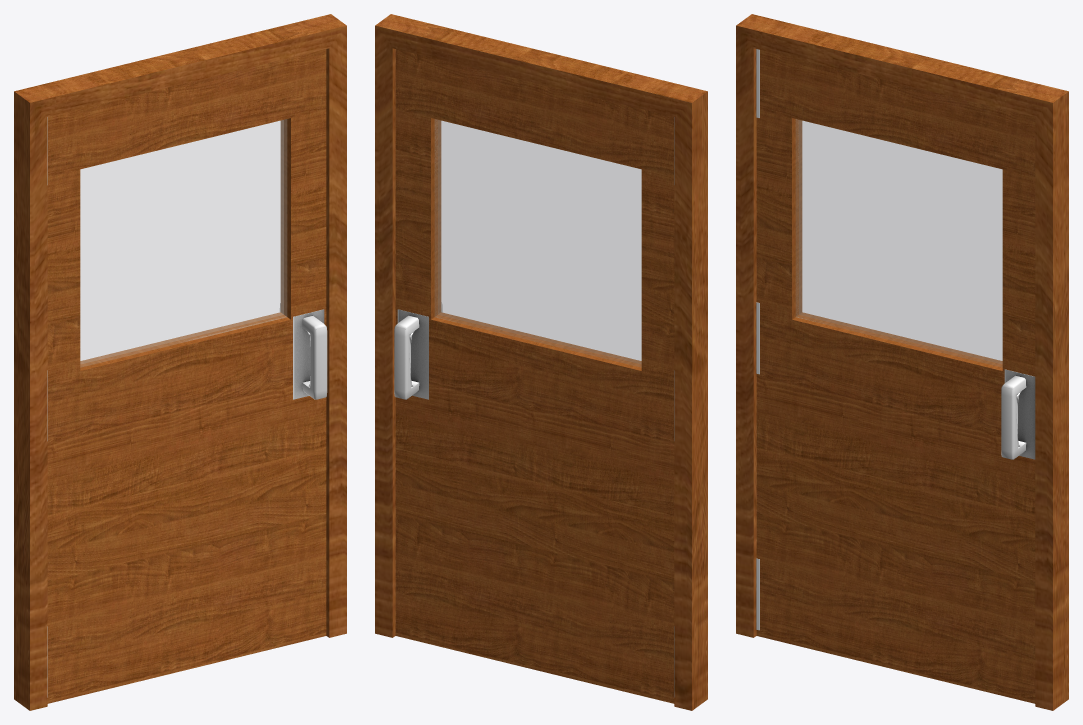
File: door.glb
3 views of the same model, side by side, from view 1: azimuth 30°, elevation 25°; view 2: azimuth 150°, elevation 25°; view 3: azimuth 330°, elevation 25° (orthographic).
Parts seen in each view (by area): view 1: Door, Frame, Cube.001, Cube.005; view 2: Door, Frame, Cube.001, Cube.005; view 3: Door, Frame, Cube.001, Cube.005, Cylinder.
Boxes of the visible parts, x1=… form: Door: x1=47, y1=49, x2=326, y2=703; Frame: x1=14, y1=14, x2=346, y2=710; Cube.001: x1=80, y1=119, x2=286, y2=366; Cube.005: x1=279, y1=303, x2=327, y2=399; Door: x1=395, y1=49, x2=674, y2=703; Frame: x1=375, y1=14, x2=707, y2=710; Cube.001: x1=435, y1=119, x2=641, y2=366; Cube.005: x1=394, y1=302, x2=442, y2=399; Door: x1=756, y1=50, x2=1035, y2=703; Frame: x1=736, y1=14, x2=1068, y2=710; Cube.001: x1=796, y1=119, x2=1002, y2=366; Cube.005: x1=1001, y1=369, x2=1035, y2=459; Cylinder: x1=756, y1=49, x2=759, y2=630.
Bounding box in the file's own units: 9 × 16.5 × 1.83.
Materials: 4 (3 with a texture image).
